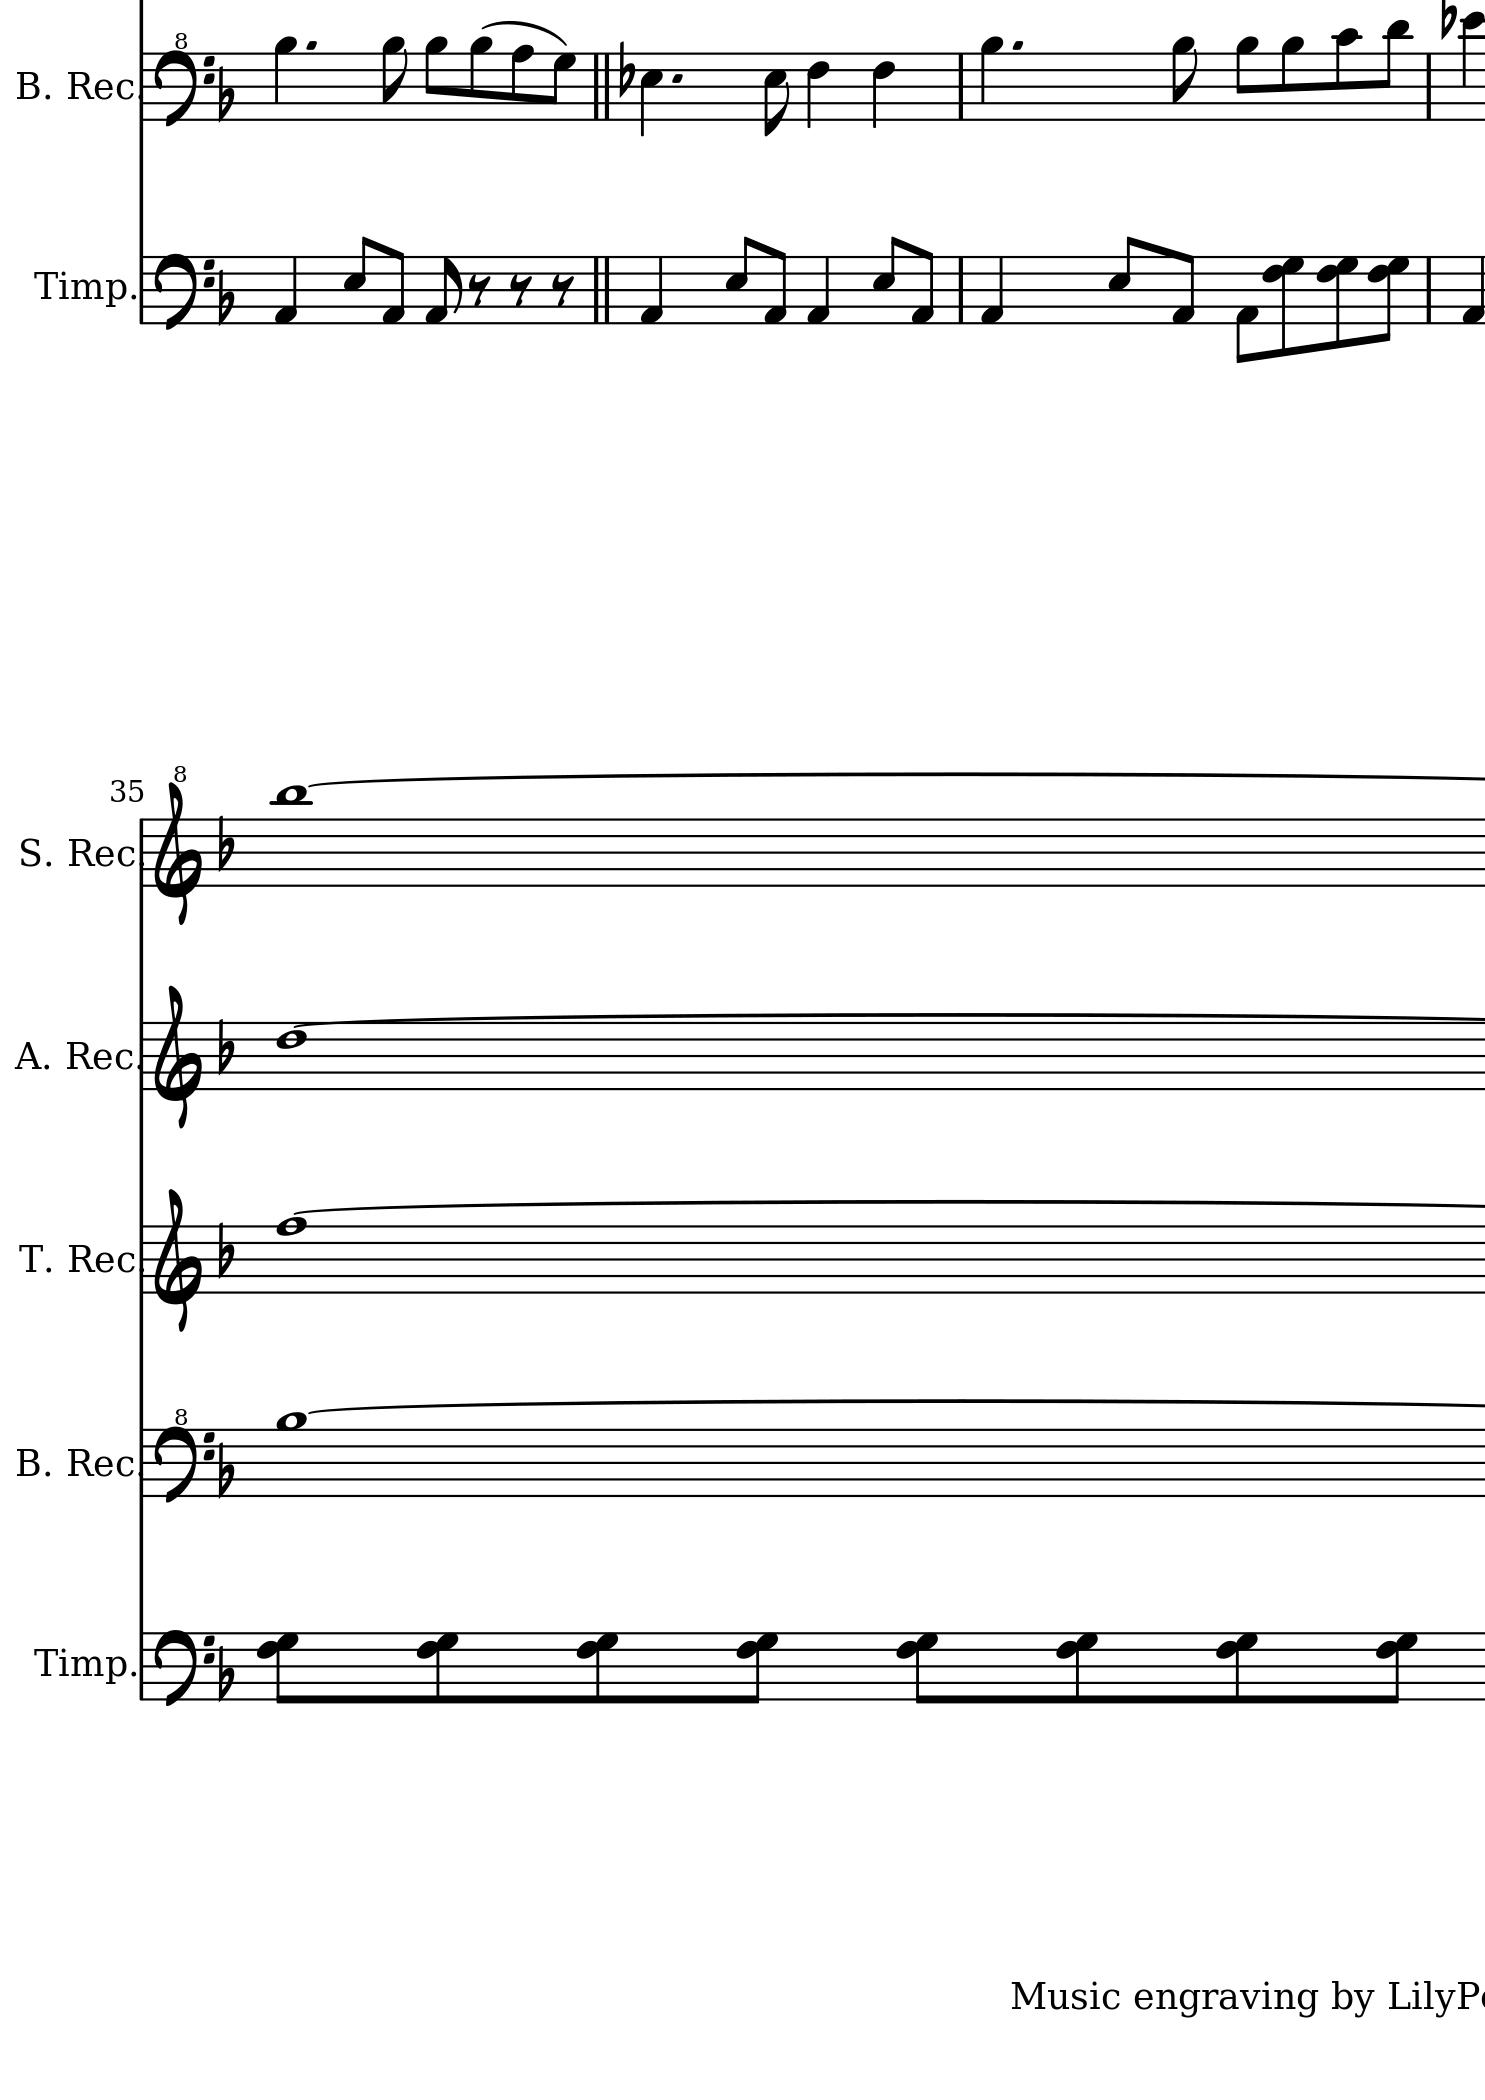1_11: (273, 786, 309, 889)
1_6: (275, 1019, 307, 1093)
1_8: (273, 1216, 307, 1297)
1_9: (273, 1412, 309, 1499)
3: (108, 778, 125, 805)
4_1: (270, 254, 297, 326), (636, 255, 664, 326), (977, 255, 1004, 326), (804, 254, 829, 326)
4_12: (1456, 10, 1483, 127)
4_5: (636, 51, 664, 140)
4_6: (868, 51, 894, 132), (804, 51, 828, 130)
4_9: (272, 34, 297, 122), (979, 35, 1004, 124)
5: (125, 776, 145, 805)
8_1: (1231, 252, 1258, 366), (423, 255, 461, 326), (378, 246, 405, 328), (760, 247, 786, 328), (908, 247, 934, 328), (1168, 251, 1196, 326)
8_10: (1331, 27, 1361, 124)
8_11: (1376, 18, 1411, 124)
8_5: (339, 235, 371, 328), (1106, 235, 1136, 328), (722, 235, 752, 326), (869, 235, 900, 326), (760, 51, 789, 140)
8_6_7: (575, 1629, 622, 1705), (731, 1629, 778, 1705), (895, 1629, 942, 1705), (1215, 1629, 1262, 1705), (415, 1629, 460, 1705), (1372, 1629, 1417, 1705), (256, 1631, 301, 1705), (1054, 1629, 1099, 1703)
8_7: (546, 51, 575, 124)
8_8: (508, 43, 534, 122)
8_9: (1168, 35, 1197, 124), (379, 35, 407, 124), (1278, 35, 1303, 124), (423, 35, 448, 122), (1233, 35, 1258, 122), (468, 35, 492, 124)
Double_barline: (588, 255, 614, 325), (588, 55, 614, 121)
Fclef: (149, 1628, 215, 1706), (151, 252, 214, 331)
Flat: (214, 1440, 235, 1501), (215, 1642, 236, 1703), (214, 268, 235, 328), (214, 813, 235, 872), (214, 1017, 235, 1077), (214, 1220, 235, 1279), (215, 64, 235, 124), (616, 39, 633, 100), (1438, 2, 1456, 39)
Gclef: (153, 983, 202, 1130), (153, 1187, 202, 1334)
High_Fclef: (149, 29, 214, 127), (149, 1406, 212, 1504)
High_Gclef: (151, 763, 202, 925)
Rec: (64, 1242, 137, 1276), (64, 836, 137, 868), (64, 1448, 133, 1480), (63, 1040, 133, 1070), (63, 71, 135, 100)
Rests8: (548, 272, 575, 307), (506, 272, 530, 307), (468, 272, 490, 307)
Single_barline: (950, 257, 971, 325), (951, 55, 971, 119), (133, 1430, 151, 1496), (135, 1226, 151, 1295), (1419, 55, 1437, 117), (133, 53, 149, 121), (133, 819, 149, 887), (133, 257, 149, 323), (1421, 257, 1437, 323), (133, 1634, 149, 1698), (135, 1023, 149, 1091)
Slur: (481, 19, 566, 47)
Timp: (31, 265, 127, 312), (34, 1640, 125, 1689)
dot: (1008, 39, 1024, 53), (669, 72, 683, 87), (302, 39, 318, 51)
